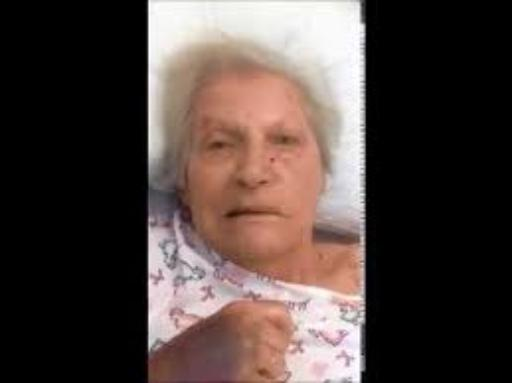left_eye: (267, 134, 302, 148)
left_lip_corner: (273, 210, 291, 220)
right_eye: (205, 140, 237, 153)
right_lip_corner: (220, 209, 238, 221)
